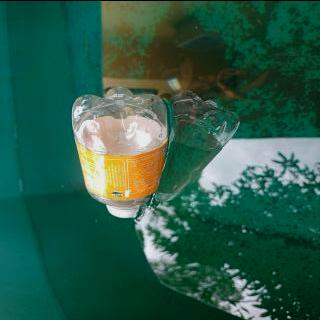bottle: (68, 82, 178, 218)
